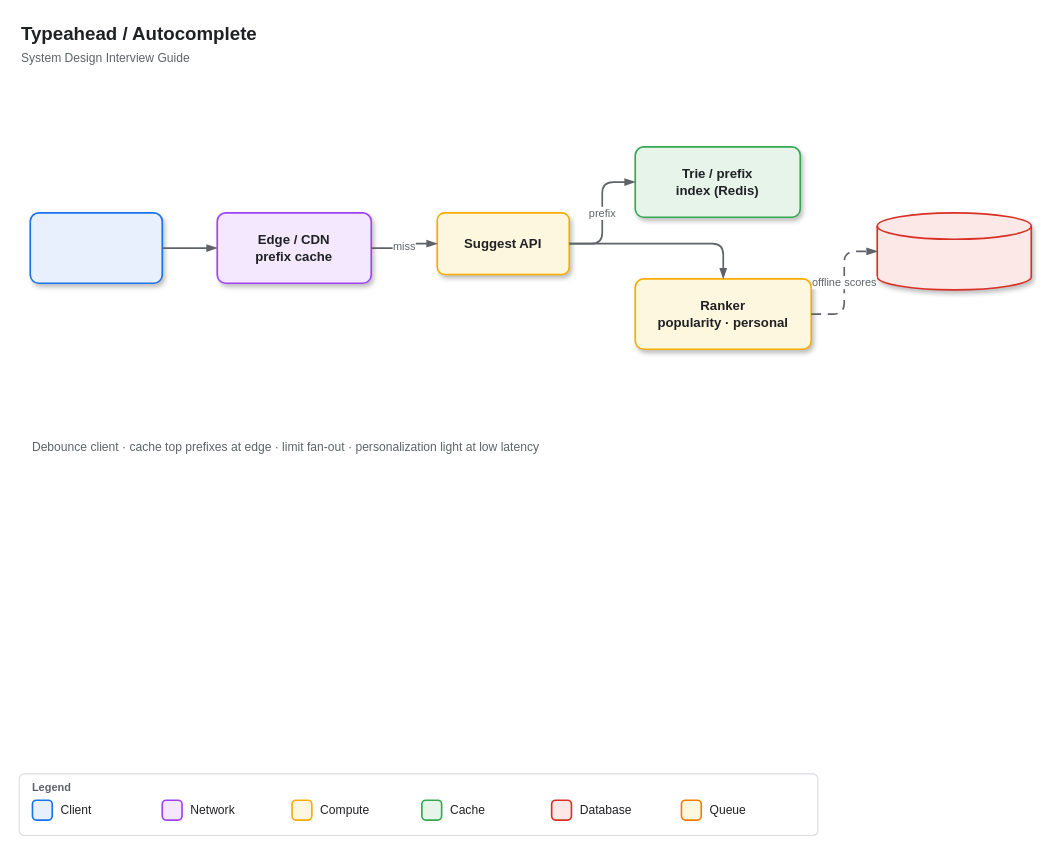
Some shapes in this 1058 by 855 pixel diagram are drawn without their labels. The shapes that lost their labels are listed below. From the top down, each one's centre as x and y in pixels, then its label:
pixel 97 249: User types "sys…"
pixel 955 252: Query logs / freq table
